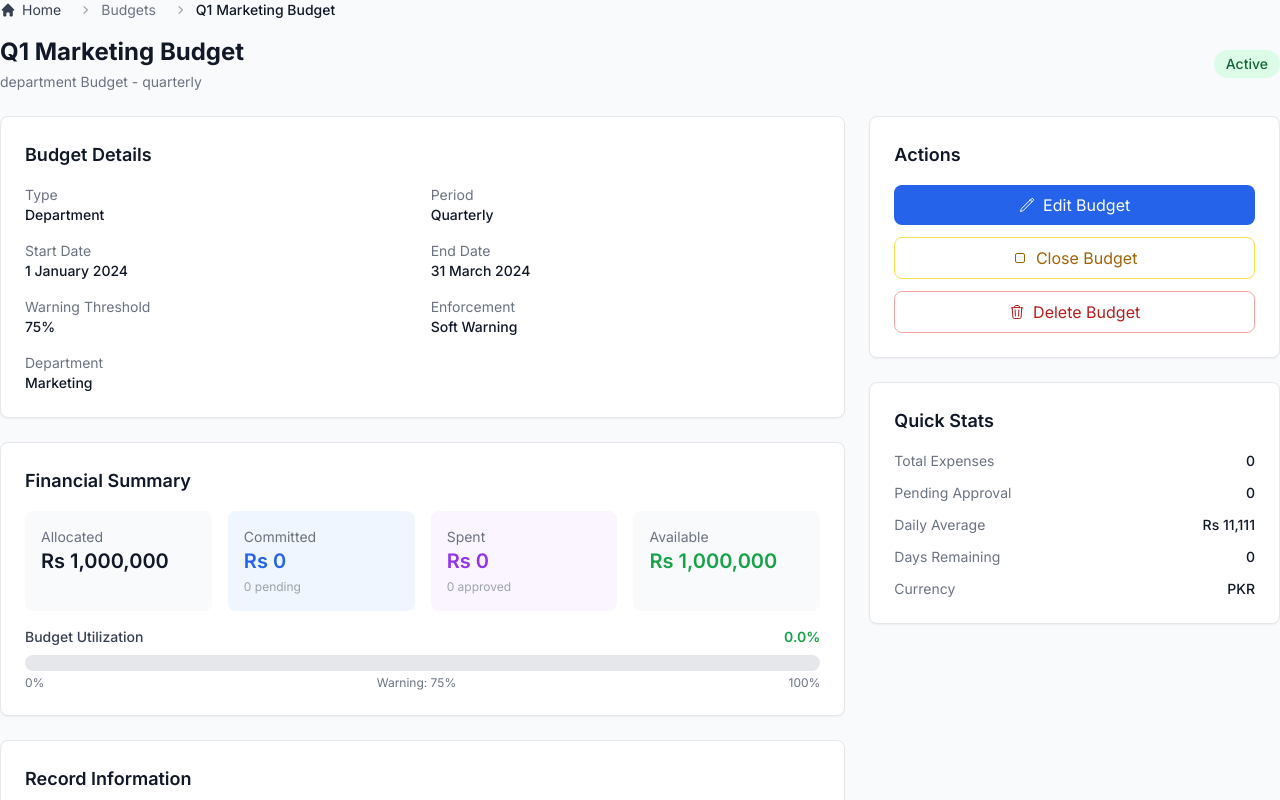
Scenario: BudgetDetailPage › Delete Confirmation › cancel delete closes dialog
Step 1. Click the button "Delete Budget" → click(1075, 312), box x1=894 y1=291 x2=1255 y2=333
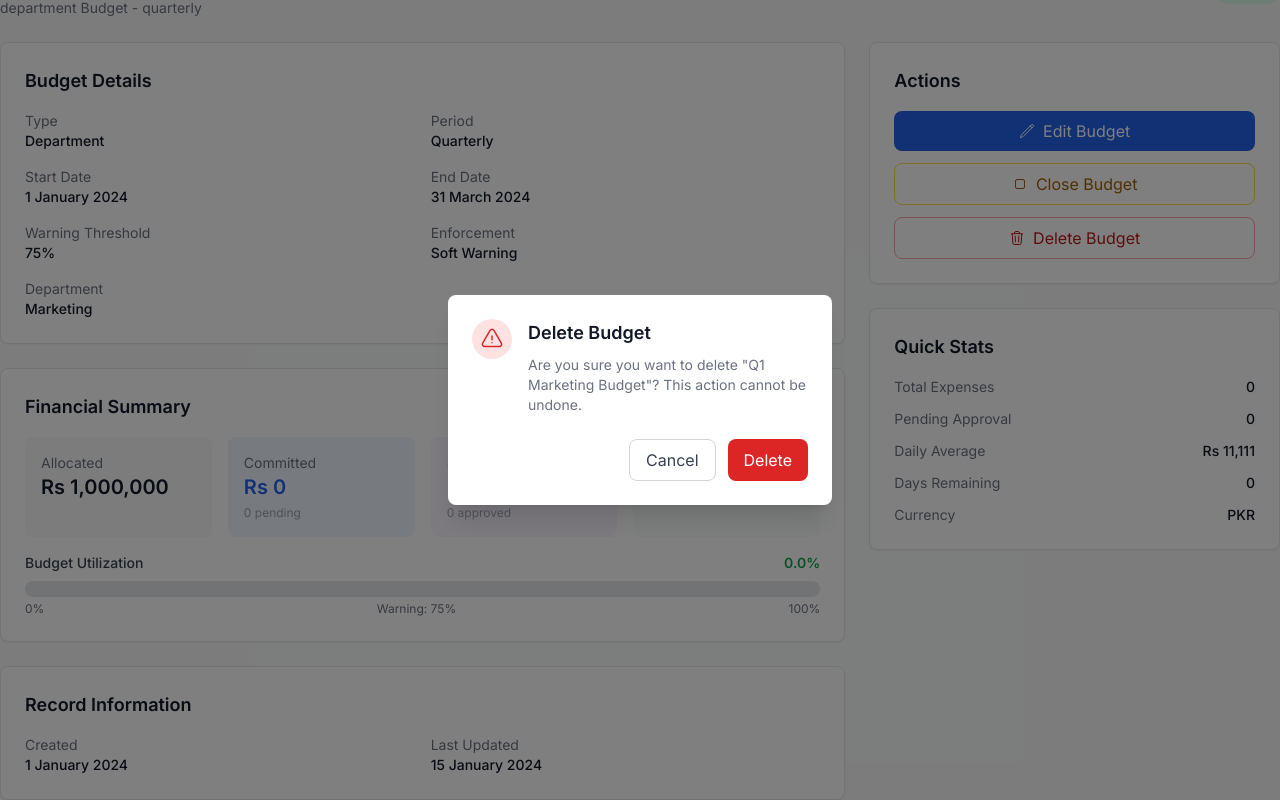
Check: the text "Are you sure you want to delete" is shown, box x1=528 y1=356 x2=806 y2=413
# Find cancel button in the dialog
Step 2. Click the button "Cancel" → click(672, 460), box x1=629 y1=439 x2=716 y2=481
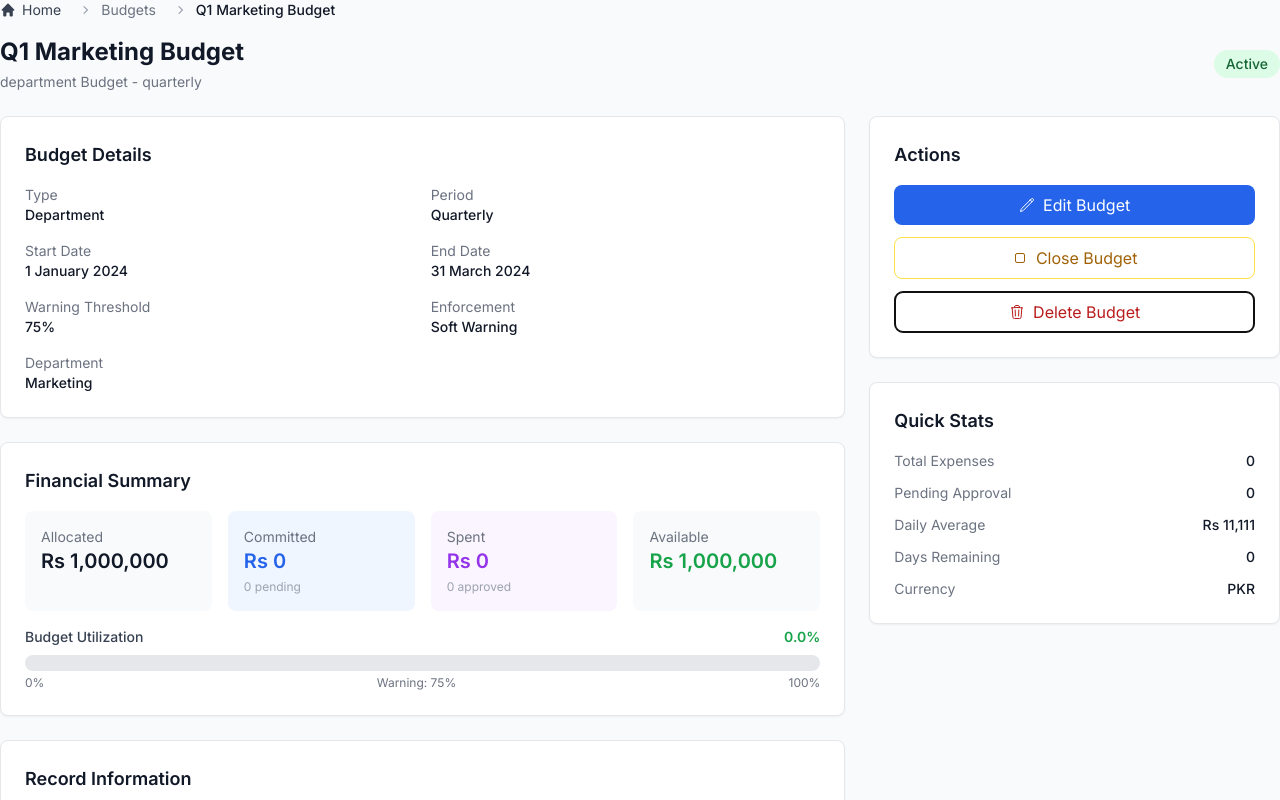
Check: the text "Are you sure you want to delete" is gone
